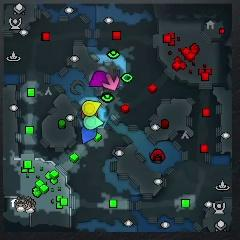p1: (81, 126, 97, 144)
p2: (83, 116, 104, 130)
p3: (90, 71, 108, 87)
p4: (81, 100, 101, 117)
p5: (82, 112, 85, 119)
x1: (103, 73, 119, 91)
